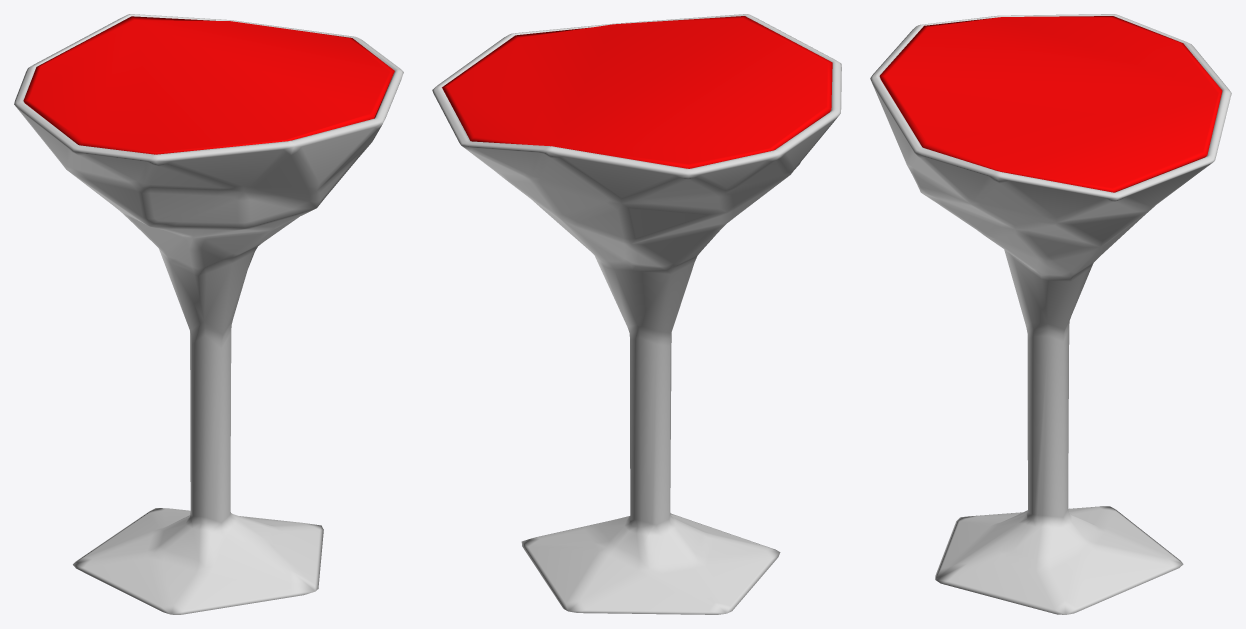
The model's file is MineralOilGlass.fbx.
The picture shows the model from 3 angles, left to right: view 1: azimuth 30°, elevation 25°; view 2: azimuth 150°, elevation 25°; view 3: azimuth 270°, elevation 25°; orthographic projection.
Visible parts, largest first — view 1: Mineral Oil Glass; view 2: Mineral Oil Glass; view 3: Mineral Oil Glass.
Part boxes in pixels (<box>): Mineral Oil Glass: <box>14,14,403,614</box>; Mineral Oil Glass: <box>432,14,841,614</box>; Mineral Oil Glass: <box>870,14,1231,614</box>.
Bounding box in the file's own units: 84.53 × 114 × 77.66.
